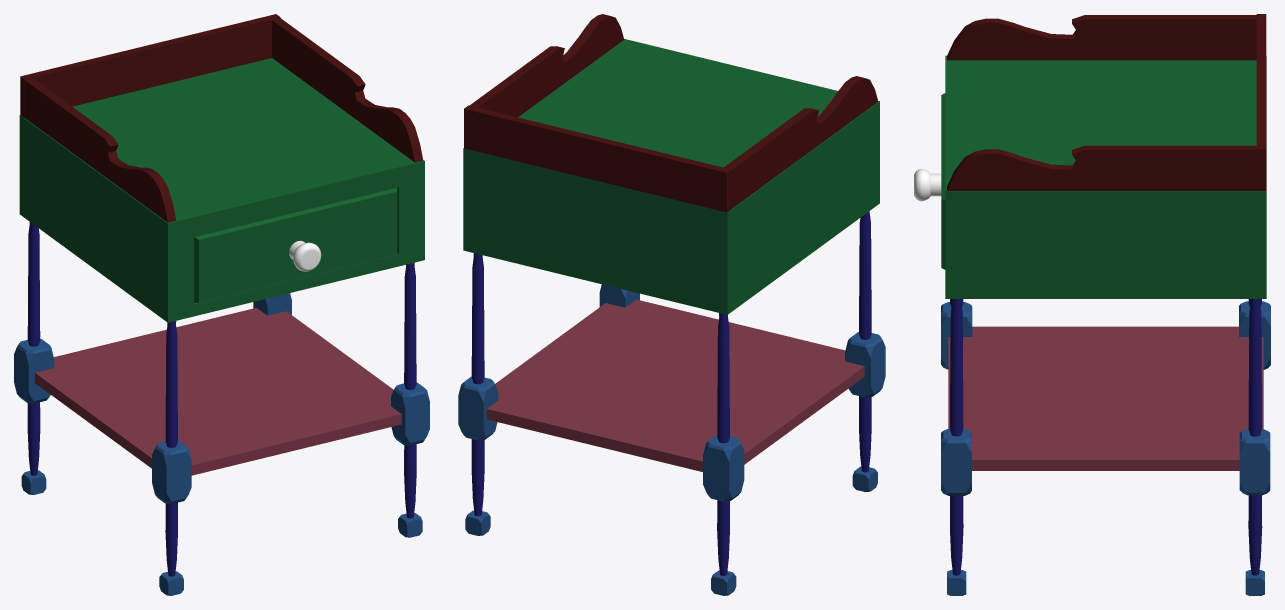
The picture shows the model from 3 angles, left to right: view 1: azimuth 30°, elevation 25°; view 2: azimuth 150°, elevation 25°; view 3: azimuth 270°, elevation 25°; orthographic projection. The views are drawn at different scales.
Parts seen in each view (by area): view 1: pCube21 (×6); view 2: pCube21 (×5); view 3: pCube21 (×6).
Boxes of the visible parts, left/top/right/bottom form: pCube21 (×6): left=14, top=14, right=429, bottom=595; pCube21 (×5): left=458, top=14, right=885, bottom=595; pCube21 (×6): left=914, top=14, right=1270, bottom=595.
Bounding box in the file's own units: 1.34 × 2 × 1.45.
